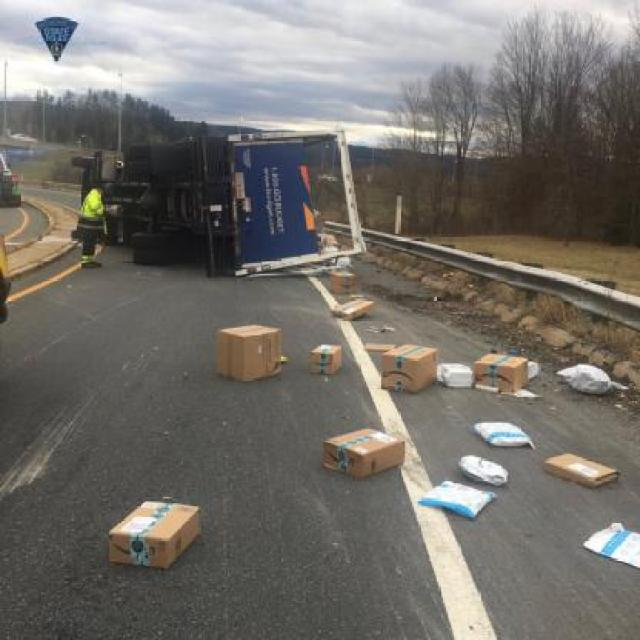cardboxes: (104, 496, 204, 572), (320, 426, 411, 480), (214, 320, 284, 383), (543, 449, 626, 489), (380, 341, 438, 397), (473, 351, 535, 392), (308, 343, 346, 379), (334, 298, 375, 320), (328, 270, 362, 295)
